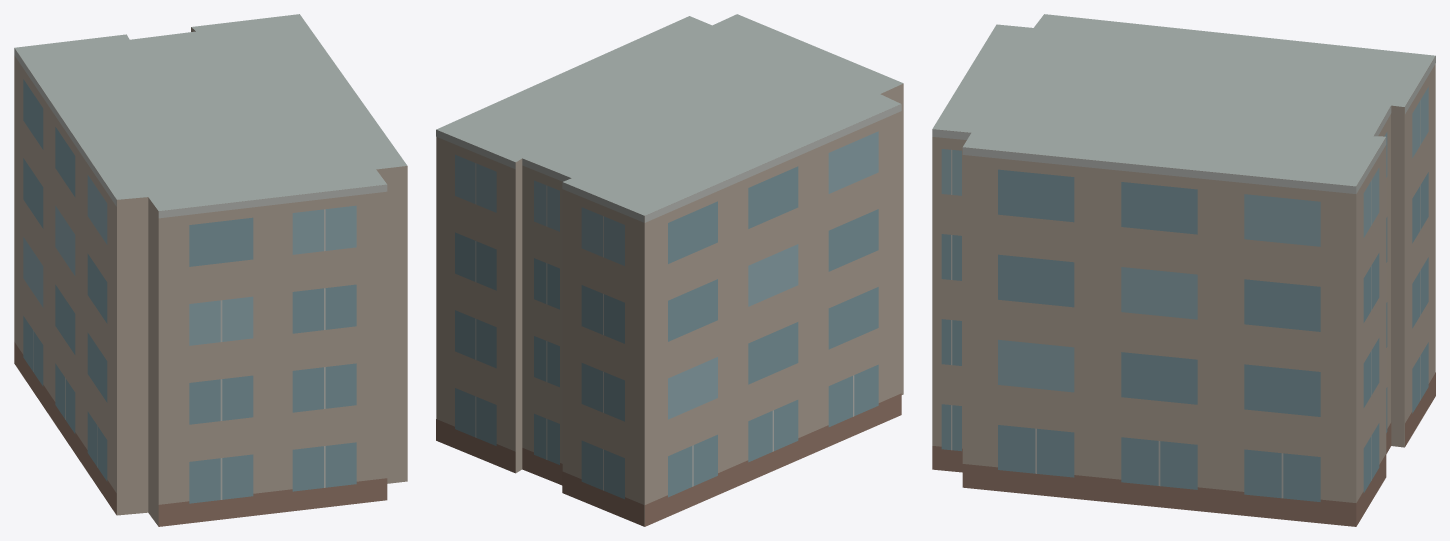
Rendered from survey-upis-32831173.glb.
3 views of the same model, side by side, from view 1: azimuth 30°, elevation 25°; view 2: azimuth 150°, elevation 25°; view 3: azimuth 270°, elevation 25° (orthographic). The views are drawn at different scales.
Visible parts, largest first — view 1: survey-upis-32831173.tmp; view 2: survey-upis-32831173.tmp; view 3: survey-upis-32831173.tmp.
Part boxes in pixels (x1,y1,x2,y2): survey-upis-32831173.tmp: (14, 14, 407, 526); survey-upis-32831173.tmp: (436, 14, 903, 526); survey-upis-32831173.tmp: (932, 14, 1435, 526).
Bounding box in the file's own units: 11.63 × 10.7 × 14.35.
